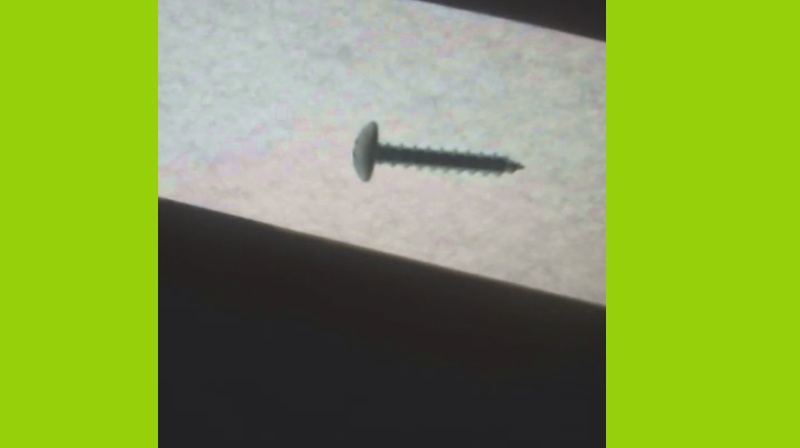S003: (350, 117, 530, 186)
